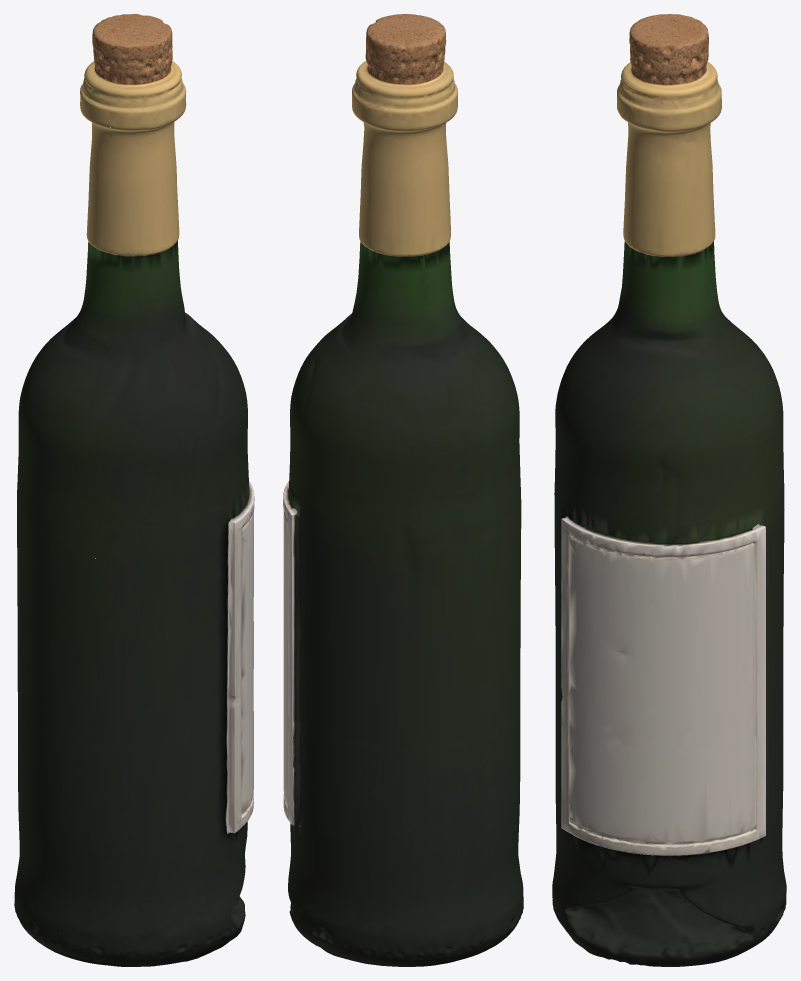
Rendered from wine.glb.
3 renders of one model, left to right at view 1: azimuth 30°, elevation 25°; view 2: azimuth 150°, elevation 25°; view 3: azimuth 270°, elevation 25°, orthographic.
Visible parts, largest first — view 1: tripo_node_97a2eea2-365b-406d-8439-1d60c6acde07; view 2: tripo_node_97a2eea2-365b-406d-8439-1d60c6acde07; view 3: tripo_node_97a2eea2-365b-406d-8439-1d60c6acde07.
Part boxes in pixels (left/top/right/bottom): tripo_node_97a2eea2-365b-406d-8439-1d60c6acde07: left=14, top=14, right=254, bottom=966; tripo_node_97a2eea2-365b-406d-8439-1d60c6acde07: left=283, top=14, right=523, bottom=966; tripo_node_97a2eea2-365b-406d-8439-1d60c6acde07: left=552, top=14, right=786, bottom=966.
Size of the model in its own units: 0.2386 by 0.9804 by 0.2321.
Materials: 1 (1 with a texture image).
